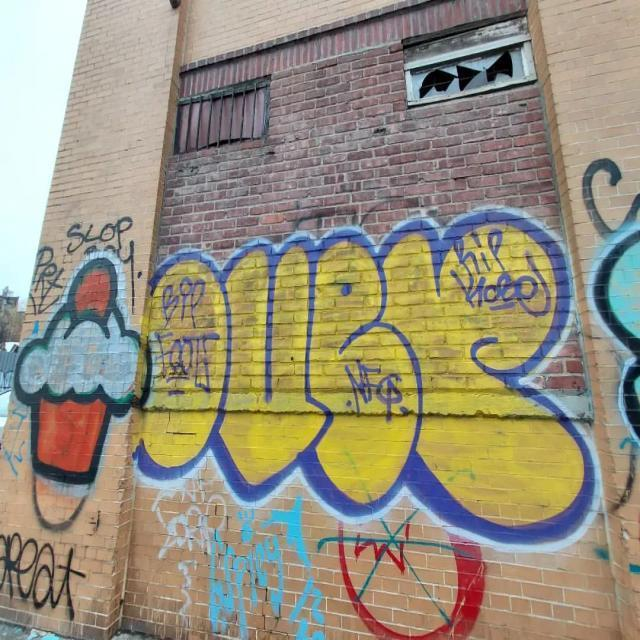-: (133, 212, 609, 551), (21, 200, 148, 507), (150, 482, 329, 638), (454, 212, 554, 326), (152, 255, 223, 400), (1, 516, 85, 619), (346, 338, 414, 433), (49, 208, 138, 262), (23, 229, 66, 312)
